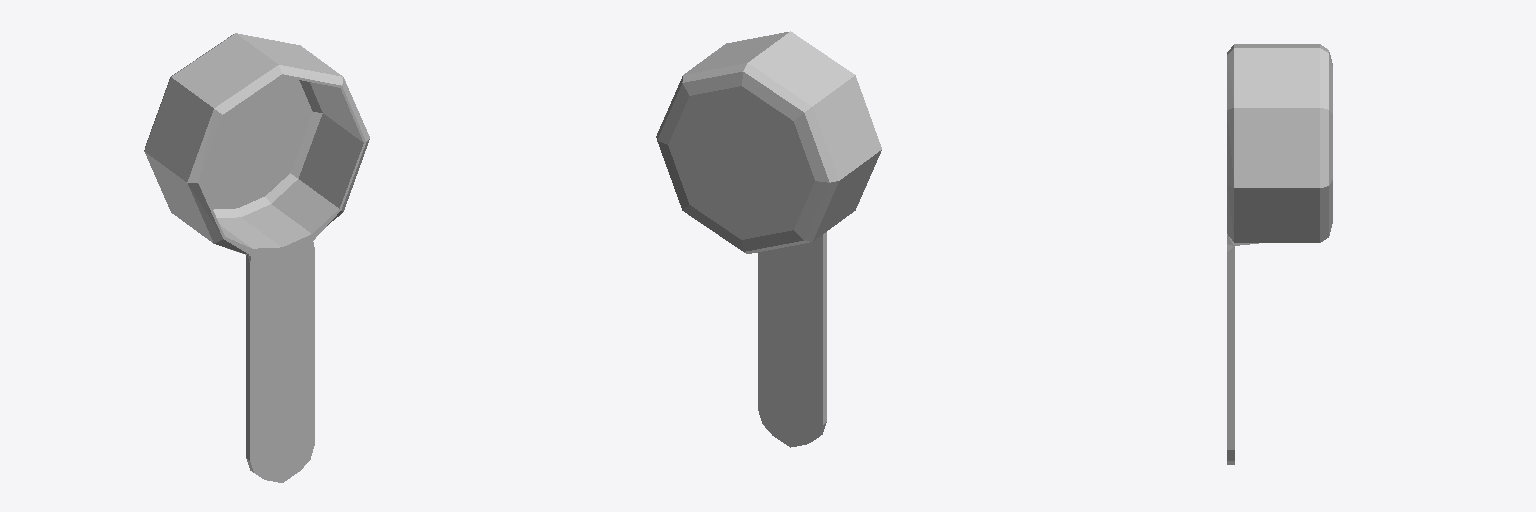
The model's file is mspoon_measuring_spoons_large.obj.
3 renders of one model, left to right at view 1: azimuth 30°, elevation 25°; view 2: azimuth 150°, elevation 25°; view 3: azimuth 270°, elevation 25°, orthographic.
Visible parts, largest first — view 1: mspoon_measuring_spoons_large_Cylinder.039; view 2: mspoon_measuring_spoons_large_Cylinder.039; view 3: mspoon_measuring_spoons_large_Cylinder.039.
Part boxes in pixels (x1,y1,x2,y2): mspoon_measuring_spoons_large_Cylinder.039: (144, 33, 369, 482); mspoon_measuring_spoons_large_Cylinder.039: (656, 31, 881, 447); mspoon_measuring_spoons_large_Cylinder.039: (1227, 44, 1332, 464).
Size of the model in its own units: 1.62 by 3.52 by 0.8082.